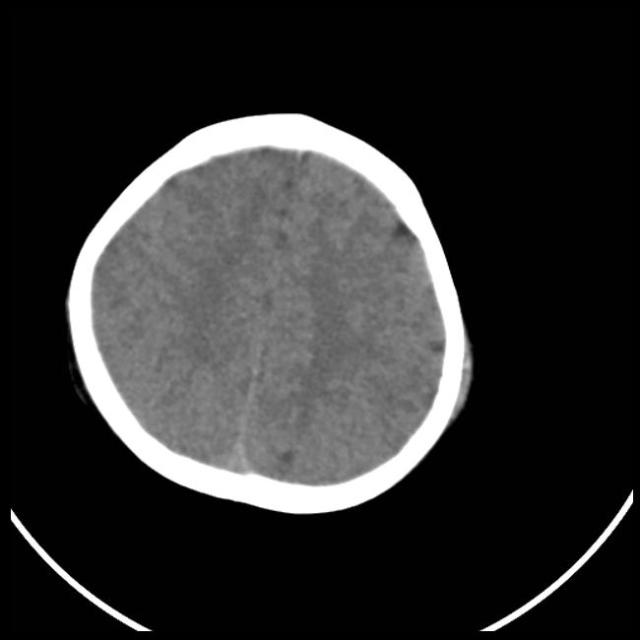lesion: (63, 108, 478, 516)
